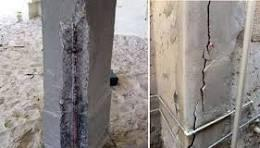Crack: (186, 0, 213, 148)
